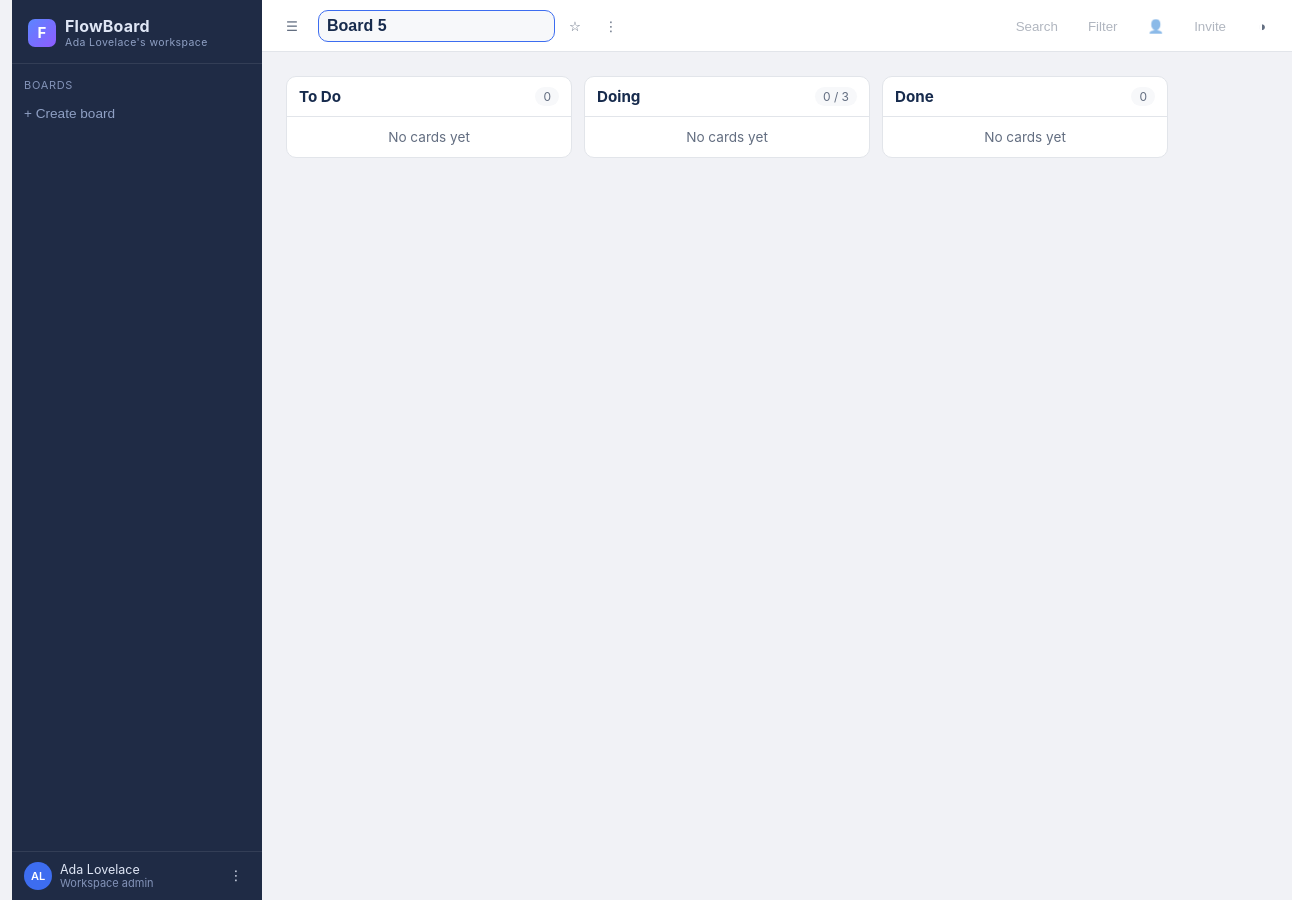
Scenario: BoardTitle (FS §4.2, B-03, FB-04 spec AC 11) › a 409 re-fetches the board and shows the conflict toast
Replace the text in the field named "Board name" with "My Edit". click: (436, 26)
box: 318,10 -> 555,42
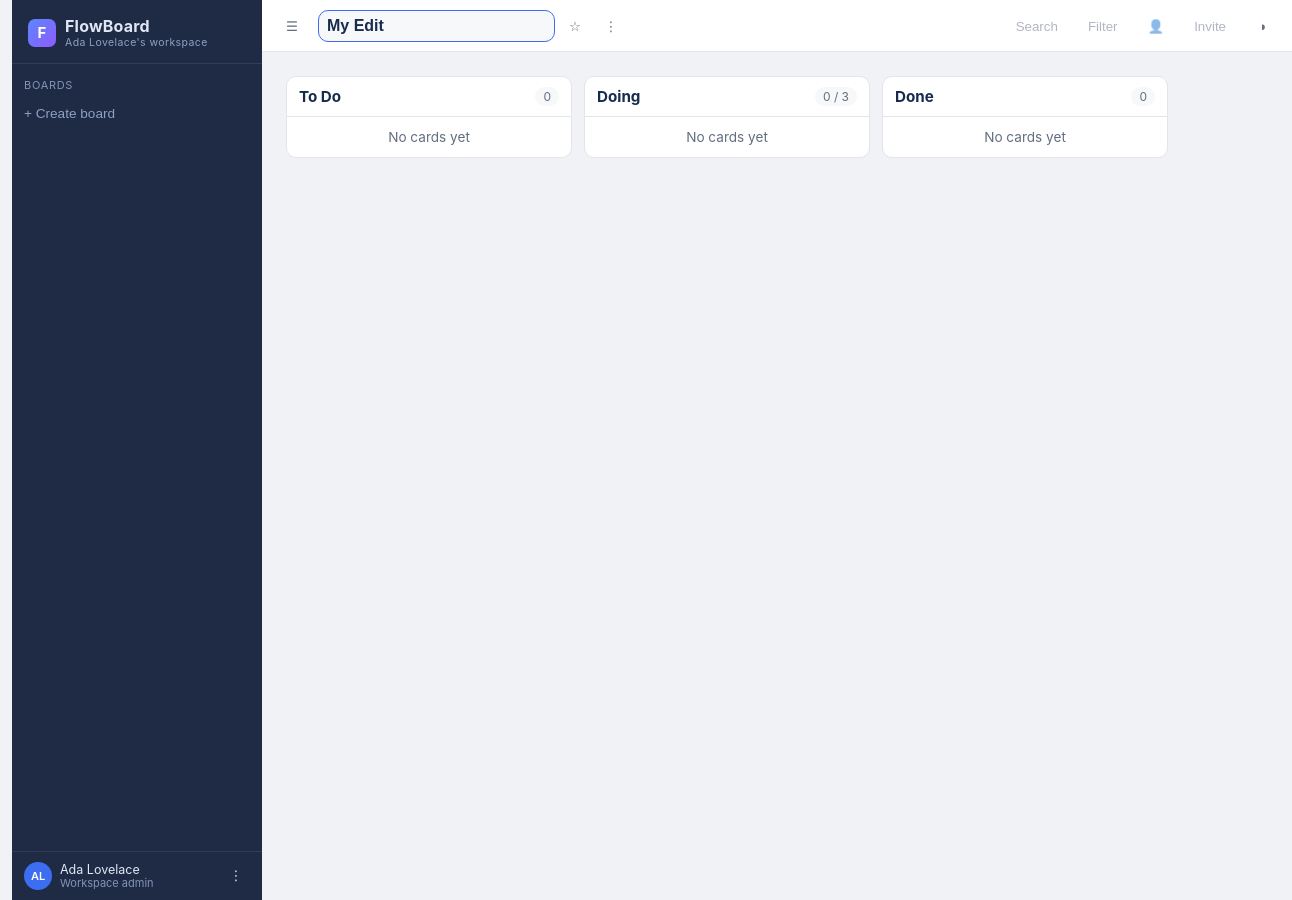
Leave the field named "Board name", box 318,10 -> 555,42
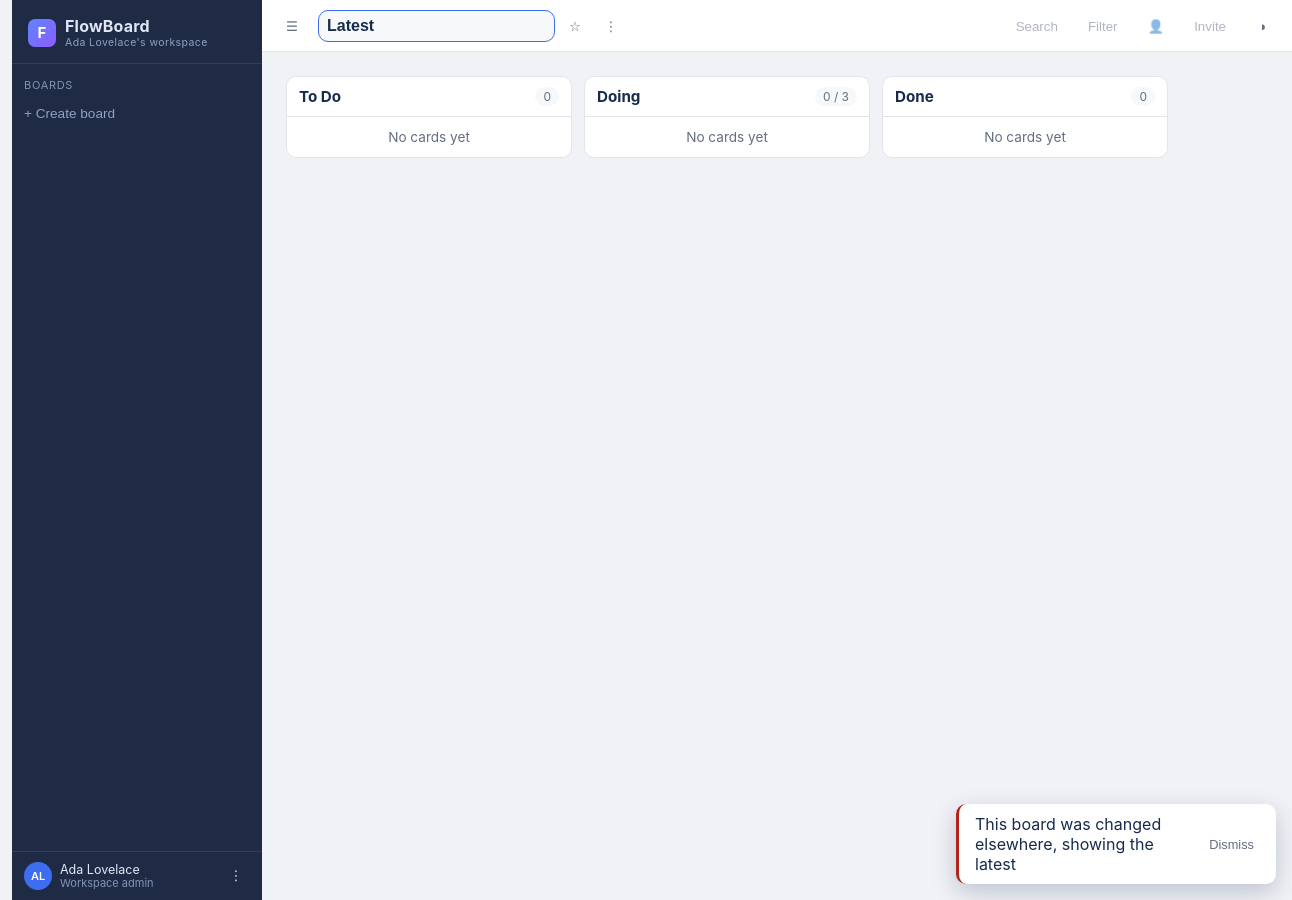
Result: the text "This board was changed elsewhere, showing the latest" is shown at 975,814 -> 1191,874
Result: the field named "Board name" holds "Latest" at 318,10 -> 555,42
